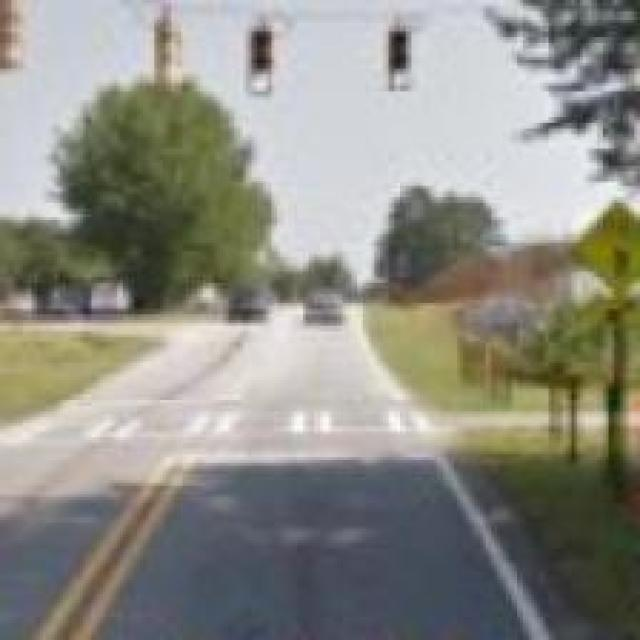zebra: (8, 389, 435, 444)
